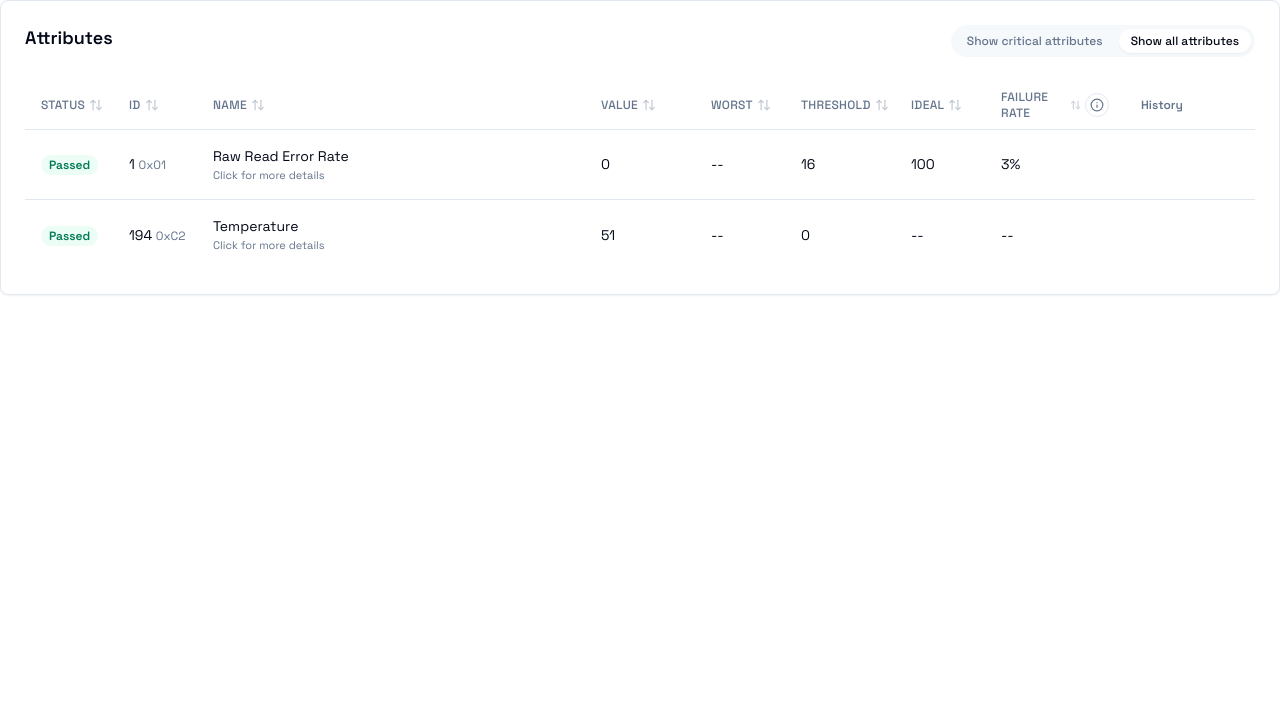
AttributeTable expand › expands row to show details
The width and height of the screenshot is (1280, 720).
Click the text "Click for more details" below "Raw Read Error Rate".
click(269, 174)  # box [213, 168, 325, 182]
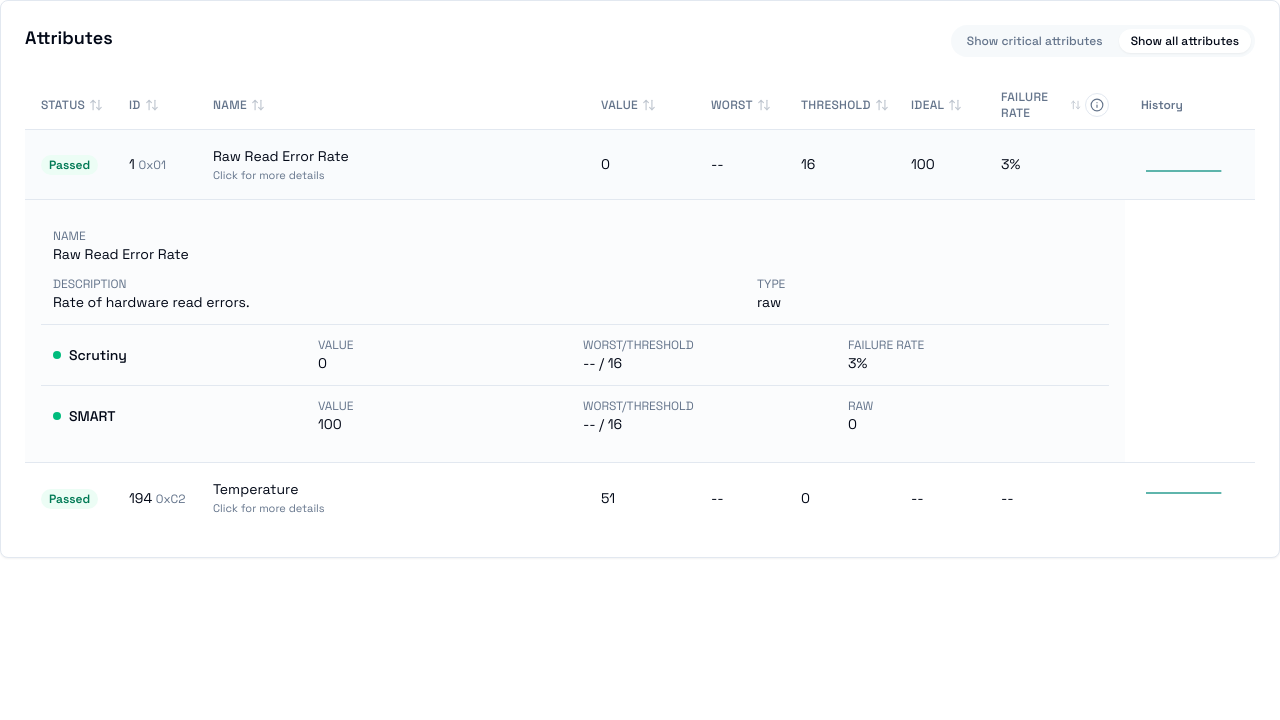
expect the text "Description" is shown: met, box [53, 276, 126, 292]
expect the text "Type" is shown: met, box [757, 276, 785, 292]
